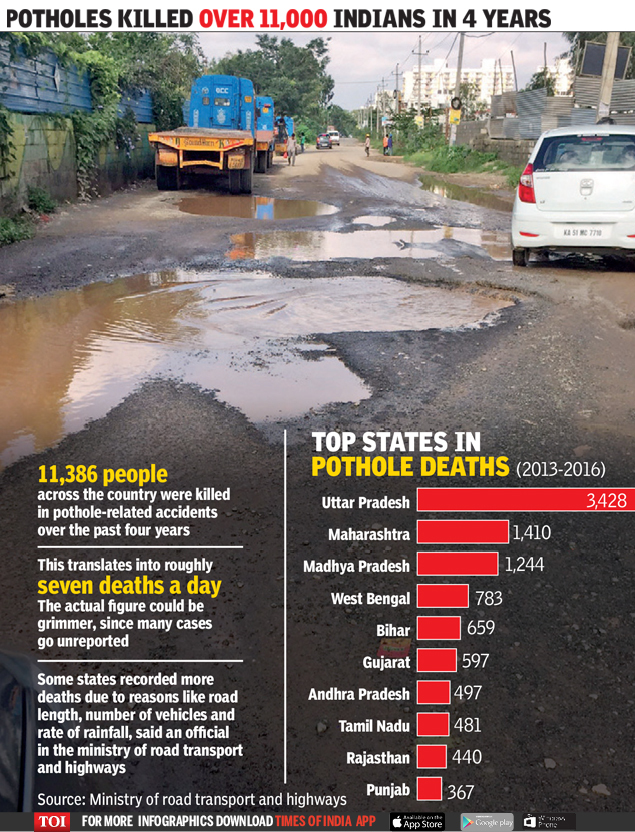pothole: (19, 254, 497, 452), (339, 193, 404, 234)
